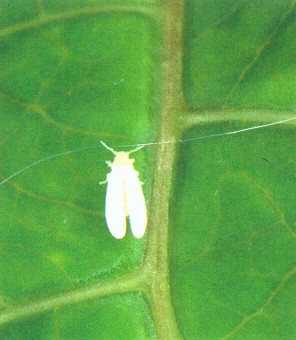whitefly: (98, 138, 148, 239)
